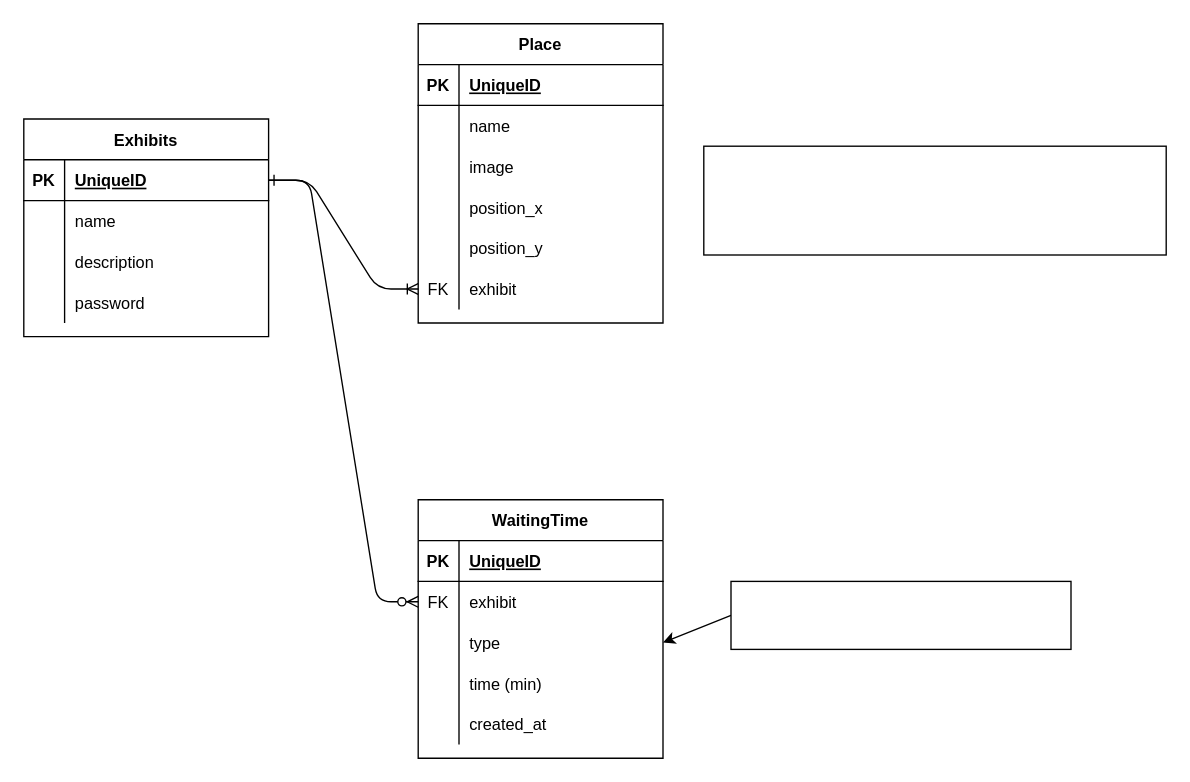
Some shapes in this 1190 by 782 pixel diagram are drawn without their labels. The centre of each missing label's shape, as x and y in pixels:
"type=入場制限なし/待ち時間あり/予約制" belongs at (x=900, y=614).
"豊田高専は1~3Fのフロアからなる建物であり、 各階の地図を保持するため、 どのMAPのどの位置かという情報をPlaceにもたせる" belongs at (x=934, y=200).
